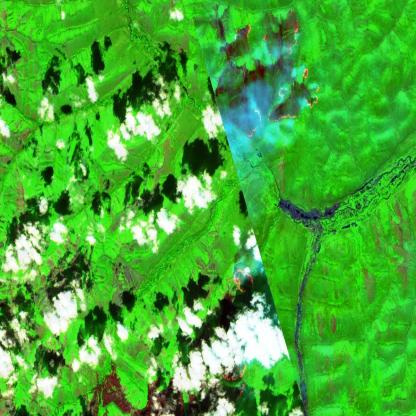fire: (222, 4, 321, 146), (214, 356, 252, 400), (230, 259, 255, 301)
